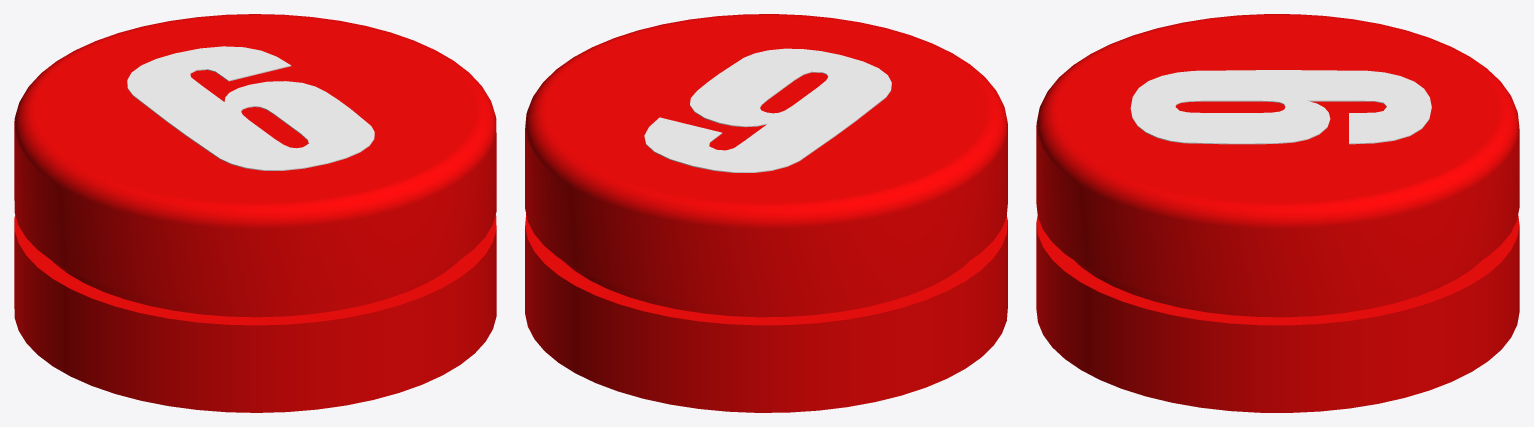
The model's file is nubot_frame6_red.dae.
3 views of the same model, side by side, from view 1: azimuth 30°, elevation 25°; view 2: azimuth 150°, elevation 25°; view 3: azimuth 270°, elevation 25° (orthographic).
Visible parts, largest first — view 1: SketchUp (×3), instance_0; view 2: SketchUp (×3), instance_0; view 3: SketchUp (×3), instance_0.
Boxes of the visible parts, left/top/right/bottom form: SketchUp (×3): left=14, top=14, right=496, bottom=412; instance_0: left=127, top=46, right=374, bottom=170; SketchUp (×3): left=525, top=14, right=1007, bottom=412; instance_0: left=644, top=48, right=891, bottom=172; SketchUp (×3): left=1036, top=14, right=1519, bottom=412; instance_0: left=1130, top=70, right=1431, bottom=144.
Bounding box in the file's own units: 19.66 × 19.68 × 9.09.
